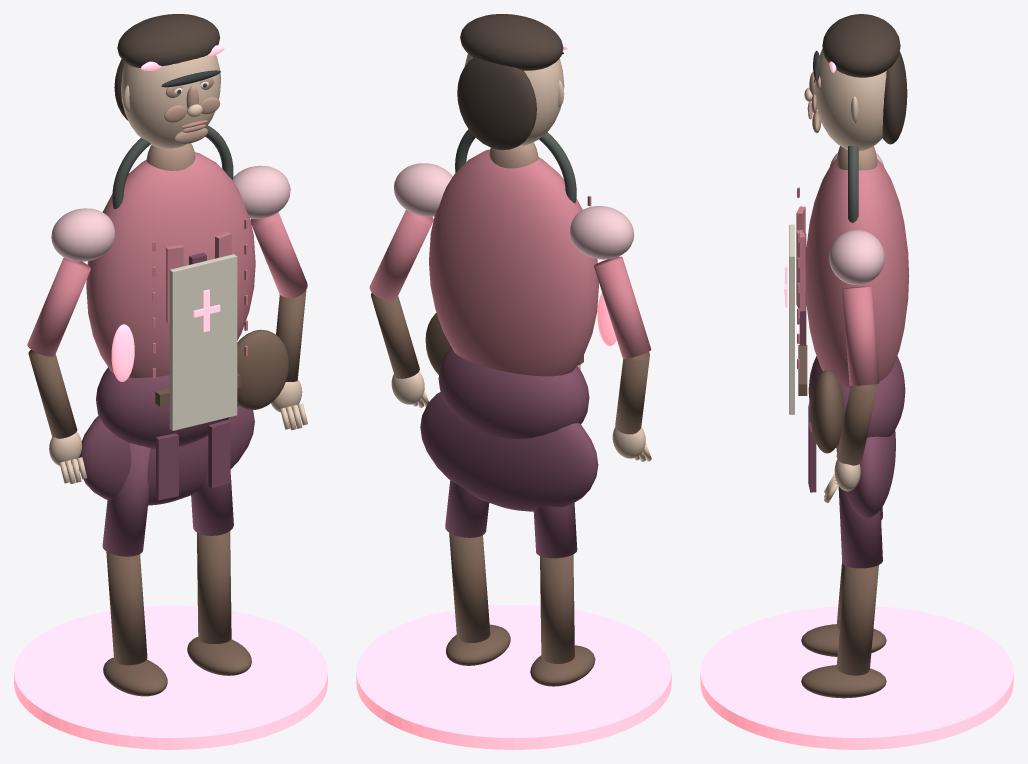
Rendered from crimson-mender.glb.
The picture shows the model from 3 angles, left to right: view 1: azimuth 30°, elevation 25°; view 2: azimuth 150°, elevation 25°; view 3: azimuth 270°, elevation 25°; orthographic projection.
Visible parts, largest first — view 1: crimson-mender_table_scale_base, crimson-mender_ribcage, crimson-mender_doctor_coat_panel, crimson-mender_coat_tail, crimson-mender_head, crimson-mender_pelvis, crimson-mender_hair_cap, crimson-mender_left_shin, crimson-mender_right_shin, crimson-mender_left_thigh, crimson-mender_medic_satchel, crimson-mender_left_upper_arm (+16 smaller); view 2: crimson-mender_table_scale_base, crimson-mender_ribcage, crimson-mender_coat_tail, crimson-mender_pelvis, crimson-mender_back_hair_mass, crimson-mender_hair_cap, crimson-mender_right_shin, crimson-mender_left_shin, crimson-mender_left_upper_arm, crimson-mender_right_upper_arm, crimson-mender_left_shoulder, crimson-mender_right_shoulder (+13 smaller); view 3: crimson-mender_table_scale_base, crimson-mender_ribcage, crimson-mender_head, crimson-mender_hair_cap, crimson-mender_right_shin, crimson-mender_right_upper_arm, crimson-mender_coat_tail, crimson-mender_right_shoulder, crimson-mender_right_thigh, crimson-mender_pelvis, crimson-mender_medic_satchel, crimson-mender_right_forearm (+9 smaller).
Part boxes in pixels (left/top/right/bottom): crimson-mender_table_scale_base: left=14, top=605, right=327, bottom=749; crimson-mender_ribcage: left=86, top=152, right=255, bottom=377; crimson-mender_doctor_coat_panel: left=169, top=254, right=237, bottom=430; crimson-mender_coat_tail: left=78, top=405, right=254, bottom=505; crimson-mender_head: left=121, top=55, right=220, bottom=148; crimson-mender_pelvis: left=96, top=367, right=238, bottom=448; crimson-mender_hair_cap: left=117, top=14, right=219, bottom=67; crimson-mender_left_shin: left=106, top=551, right=147, bottom=665; crimson-mender_right_shin: left=197, top=531, right=231, bottom=643; crimson-mender_left_thigh: left=102, top=443, right=150, bottom=556; crimson-mender_medic_satchel: left=237, top=329, right=288, bottom=409; crimson-mender_left_upper_arm: left=27, top=257, right=90, bottom=356; crimson-mender_table_scale_base: left=356, top=605, right=671, bottom=749; crimson-mender_ribcage: left=429, top=149, right=598, bottom=376; crimson-mender_coat_tail: left=420, top=391, right=598, bottom=511; crimson-mender_pelvis: left=438, top=347, right=589, bottom=438; crimson-mender_back_hair_mass: left=457, top=58, right=536, bottom=150; crimson-mender_hair_cap: left=460, top=14, right=563, bottom=70; crimson-mender_right_shin: left=449, top=532, right=490, bottom=642; crimson-mender_left_shin: left=540, top=554, right=574, bottom=663; crimson-mender_left_upper_arm: left=594, top=256, right=651, bottom=358; crimson-mender_right_upper_arm: left=369, top=210, right=433, bottom=301; crimson-mender_left_shoulder: left=570, top=206, right=633, bottom=259; crimson-mender_right_shoulder: left=394, top=163, right=452, bottom=216; crimson-mender_table_scale_base: left=700, top=606, right=1013, bottom=749; crimson-mender_ribcage: left=805, top=159, right=909, bottom=387; crimson-mender_head: left=814, top=49, right=886, bottom=151; crimson-mender_hair_cap: left=822, top=14, right=900, bottom=77; crimson-mender_right_shin: left=836, top=565, right=878, bottom=675; crimson-mender_right_upper_arm: left=842, top=286, right=879, bottom=385; crimson-mender_coat_tail: left=836, top=430, right=895, bottom=518; crimson-mender_right_shoulder: left=829, top=230, right=884, bottom=284; crimson-mender_right_thigh: left=837, top=449, right=882, bottom=568; crimson-mender_pelvis: left=808, top=356, right=905, bottom=448; crimson-mender_medic_satchel: left=810, top=370, right=843, bottom=453; crimson-mender_right_forearm: left=836, top=384, right=877, bottom=465.
Bounding box in the file's own units: 0.8538 × 1.95 × 0.84.
